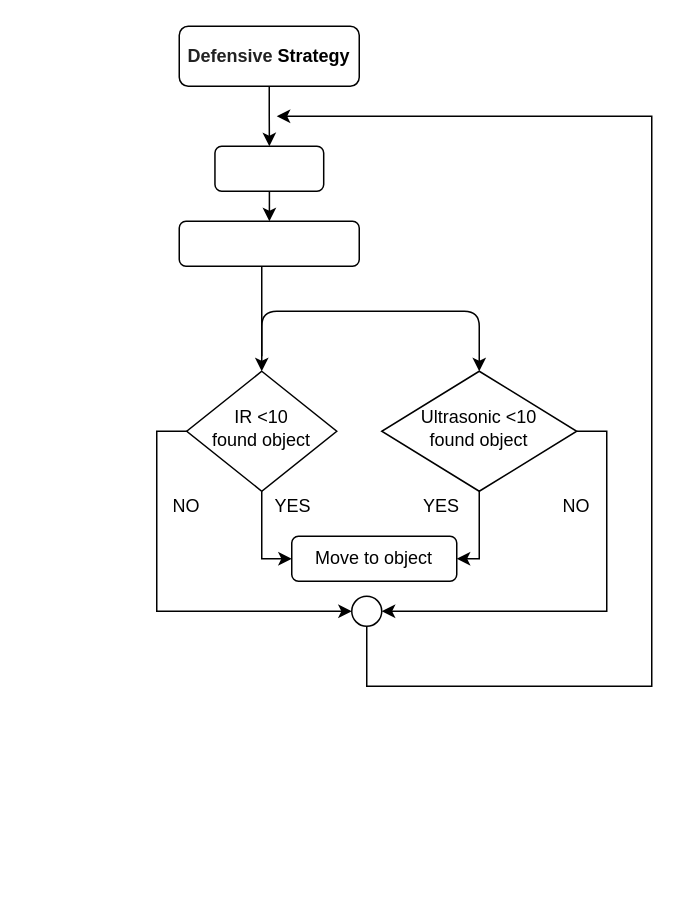
Some shapes in this 690 by 905 pixel diagram are drawn without their labels. Each missing label, with the centre of its shape:
"Check condition" belongs at [268,243].
"Stop" belongs at [268,168].
